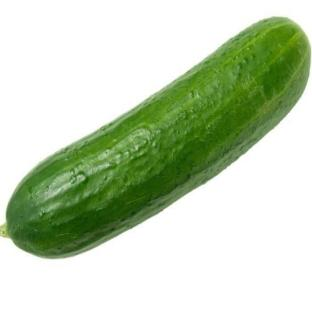Cucumber: (0, 18, 310, 257)
